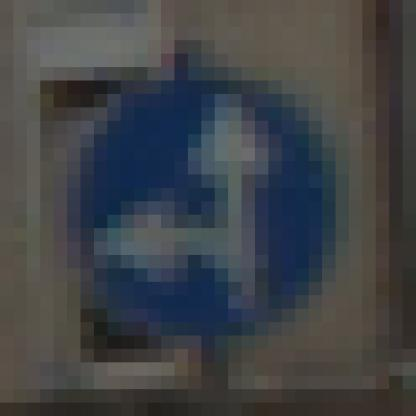Straight or Left: (68, 68, 337, 350)
